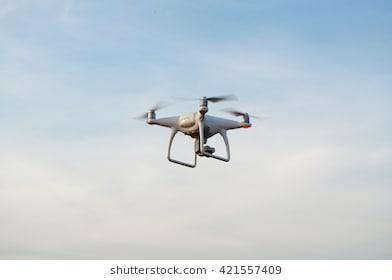drone: (129, 89, 269, 174)
